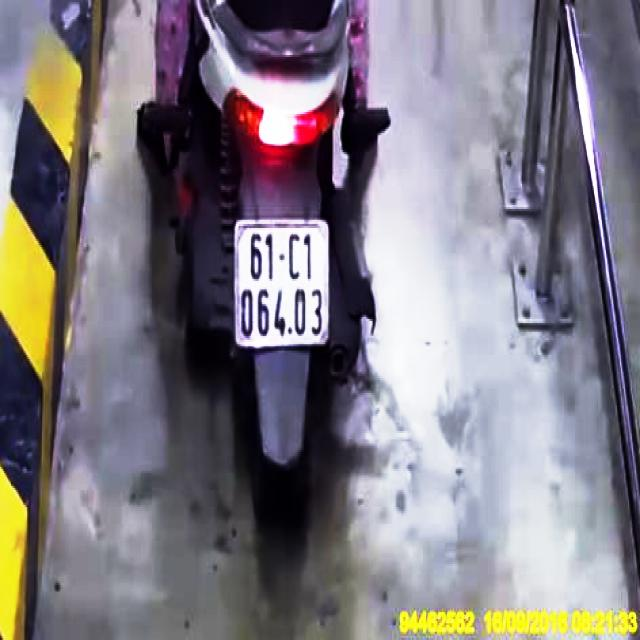license_plate: (238, 223, 329, 345)
